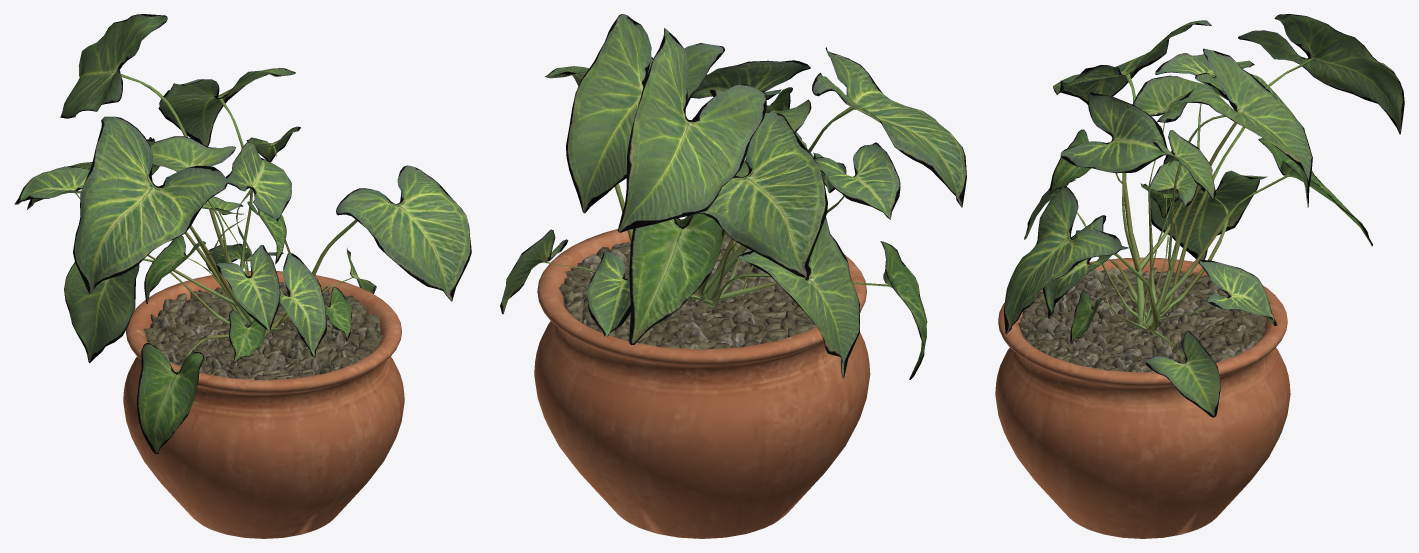
Rendered from potted_plant_02.glb.
3 renders of one model, left to right at view 1: azimuth 30°, elevation 25°; view 2: azimuth 150°, elevation 25°; view 3: azimuth 270°, elevation 25°, orthographic. The views are drawn at different scales.
Visible parts, largest first — view 1: potted_plant_02_leaves, potted_plant_02_pot; view 2: potted_plant_02_leaves, potted_plant_02_pot; view 3: potted_plant_02_pot, potted_plant_02_leaves.
Part boxes in pixels (bbox=[...]): potted_plant_02_leaves: bbox=[14, 14, 471, 453]; potted_plant_02_pot: bbox=[123, 271, 404, 538]; potted_plant_02_leaves: bbox=[500, 14, 966, 379]; potted_plant_02_pot: bbox=[534, 219, 870, 538]; potted_plant_02_pot: bbox=[995, 257, 1290, 538]; potted_plant_02_leaves: bbox=[1004, 14, 1404, 417].
Size of the model in its own units: 0.7009 by 0.8412 by 0.6574.
2 materials, 2 textured.
